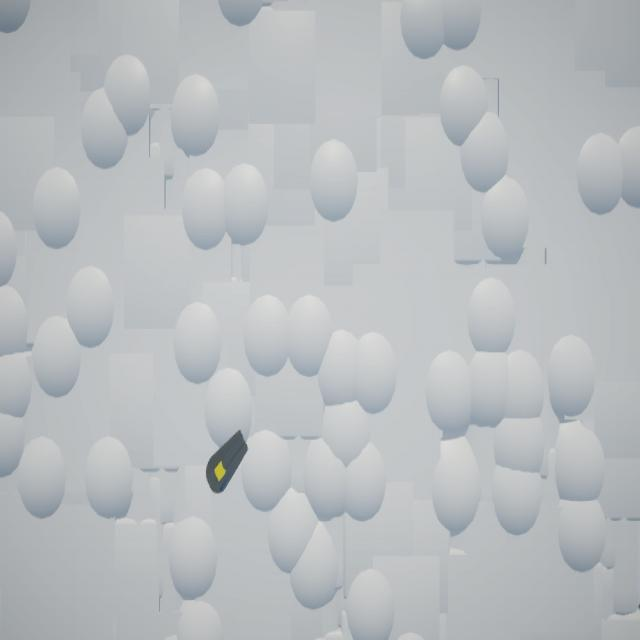handle_folk: (207, 430, 250, 495)
